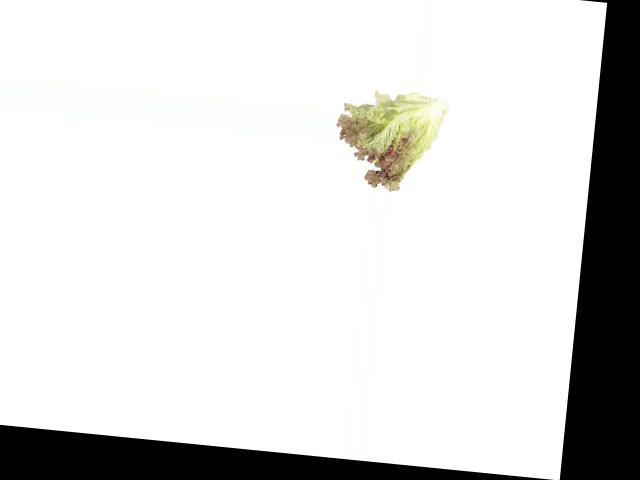lettuce: (330, 86, 448, 194)
